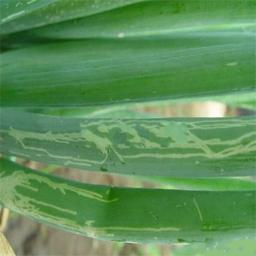liriomyza: (1, 116, 256, 170), (1, 168, 117, 241)
